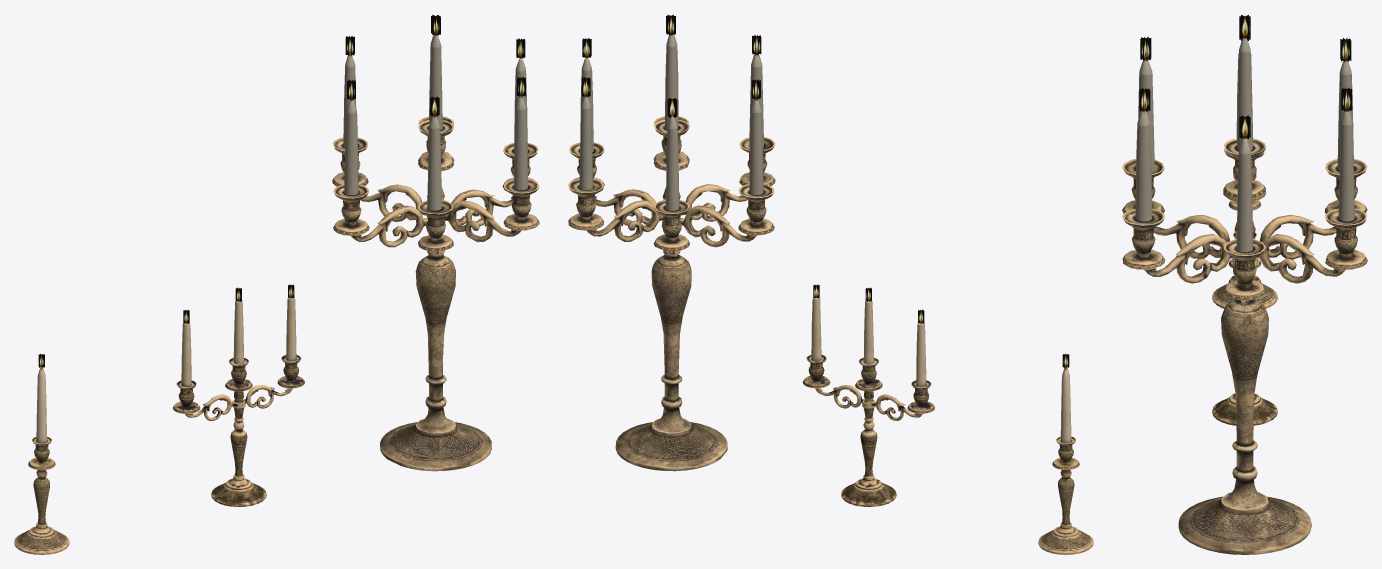
The model's file is brass_candleholders.glb.
3 renders of one model, left to right at view 1: azimuth 30°, elevation 25°; view 2: azimuth 150°, elevation 25°; view 3: azimuth 270°, elevation 25°, orthographic. The views are drawn at different scales.
Visible parts, largest first — view 1: brass_candleholder_03, brass_candleholder_02, brass_candleholder_01; view 2: brass_candleholder_03, brass_candleholder_02, brass_candleholder_01; view 3: brass_candleholder_03, brass_candleholder_02, brass_candleholder_01.
Boxes of the visible parts, left/top/right/bottom form: brass_candleholder_03: left=38, top=14, right=539, bottom=471; brass_candleholder_02: left=173, top=296, right=304, bottom=506; brass_candleholder_01: left=14, top=367, right=69, bottom=554; brass_candleholder_03: left=568, top=14, right=1069, bottom=471; brass_candleholder_02: left=802, top=296, right=934, bottom=506; brass_candleholder_01: left=1038, top=367, right=1093, bottom=554; brass_candleholder_03: left=1122, top=15, right=1367, bottom=554; brass_candleholder_02: left=1212, top=232, right=1277, bottom=425; brass_candleholder_01: left=1212, top=174, right=1277, bottom=308.
Bounding box in the file's own units: 1.05 × 0.8353 × 0.3645.
5 materials, 5 textured.
